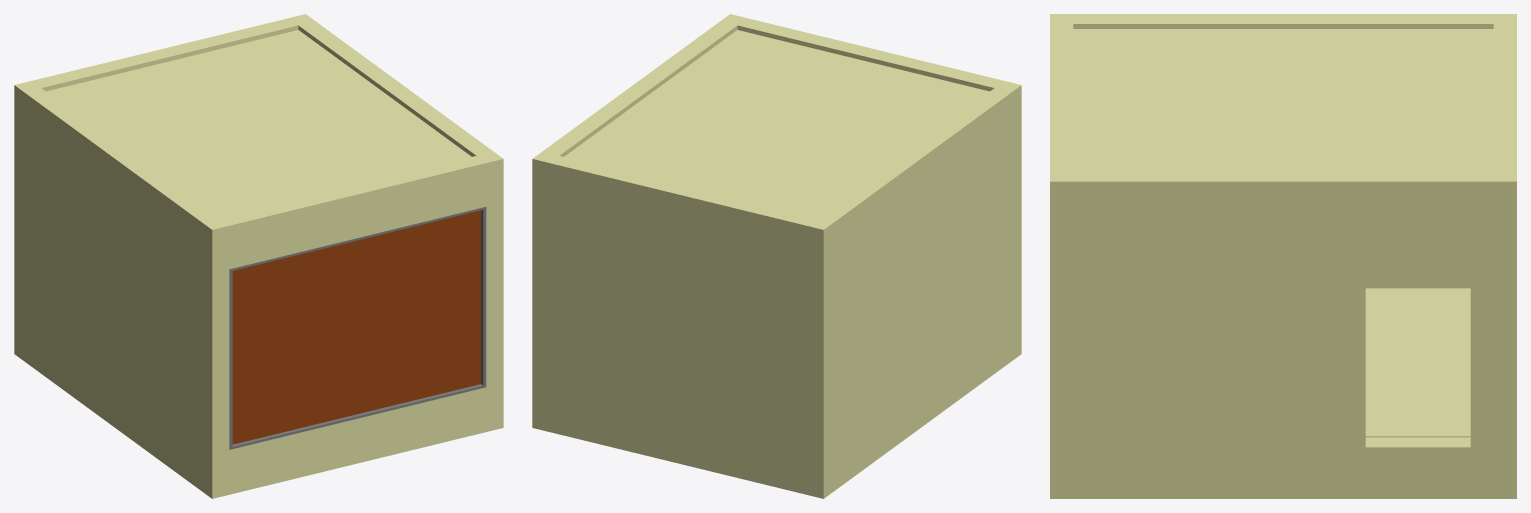
File: Garage.glb
3 views of the same model, side by side, from view 1: azimuth 30°, elevation 25°; view 2: azimuth 150°, elevation 25°; view 3: azimuth 270°, elevation 25° (orthographic). The views are drawn at different scales.
Parts seen in each view (by area): view 1: Cube.004, Cube.002, Cube.005, Cube, Cube.003, Cube.001; view 2: Cube.004, Cube.001, Cube.005, Cube, Cube.003, Cube.002; view 3: Cube.003, Cube.005, Cube, Cube.004, Cube.001, Cube.002.
Boxes of the visible parts, box(x1,y1,x2,y2) form: Cube.004: box(14, 81, 229, 498); Cube.002: box(220, 156, 486, 449); Cube.005: box(46, 30, 471, 218); Cube: box(229, 387, 486, 494); Cube.003: box(289, 14, 503, 431); Cube.001: box(32, 18, 298, 91); Cube.004: box(806, 81, 1021, 498); Cube.001: box(549, 156, 815, 449); Cube.005: box(564, 30, 989, 218); Cube: box(549, 387, 806, 494); Cube.003: box(532, 14, 746, 431); Cube.002: box(737, 18, 1003, 91); Cube.003: box(1050, 171, 1516, 498); Cube.005: box(1073, 29, 1493, 171); Cube: box(1365, 288, 1470, 437); Cube.004: box(1050, 14, 1516, 288); Cube.001: box(1493, 24, 1516, 171); Cube.002: box(1050, 24, 1073, 171).
Bounding box in the file's own units: 3.4 × 3 × 4.
